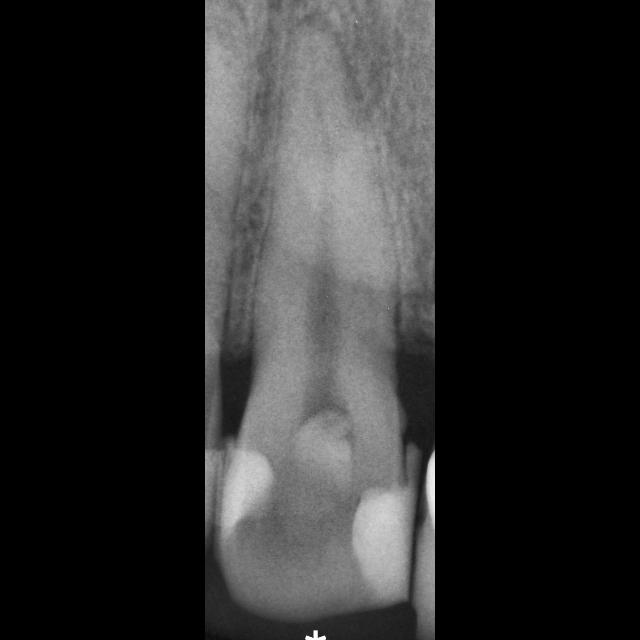tooth: (214, 9, 420, 623)
